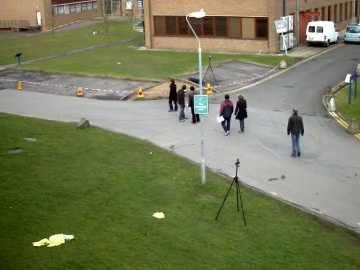person: (173, 80, 193, 121), (168, 79, 187, 118), (169, 79, 188, 118)
